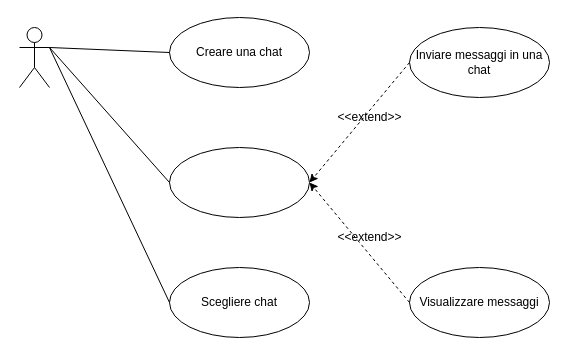
The diagram is 567 pixels wide and 355 high, and some of its shapes have lost their labels. Here are the shapes that lost their labels. From the top down, the box of each, then its label:
(18, 26, 50, 88): Utente
(168, 146, 310, 218): Collegarsi ad una chat
